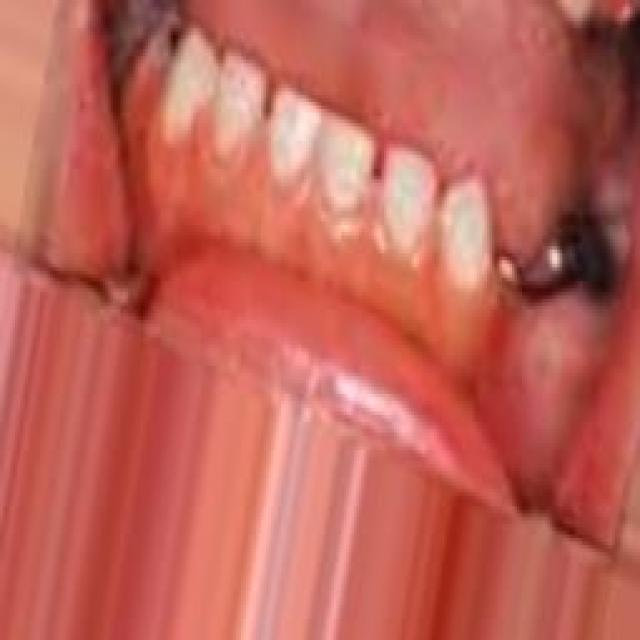caries: (157, 2, 199, 70)
